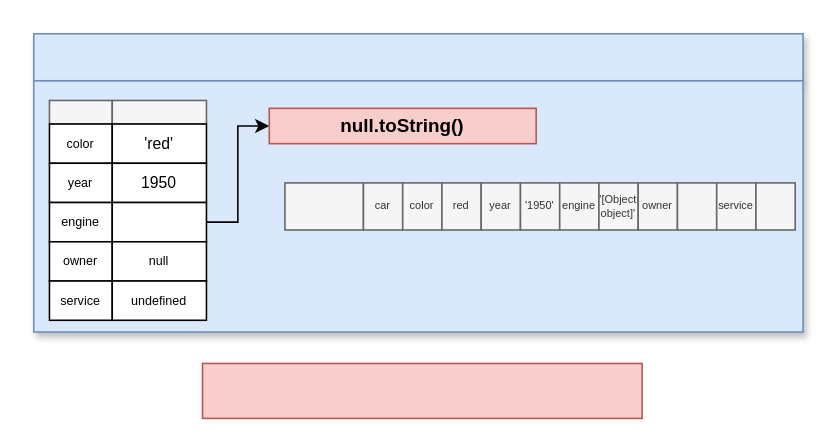
Image size: 840x446. Some labels were removed from this diagram. The centre of each missing label's shape, as x and y in pixels:
"(2) Put in the value for each key, calling the 'toString()' method on each value" goes at (x=421, y=390).
"App" goes at (x=419, y=59).
"HGETALL" goes at (x=323, y=205).
"key" goes at (x=80, y=111).
"value" goes at (x=158, y=111).
"{ cylinders: 8 }" goes at (x=158, y=221).
